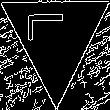L_E: (33, 21, 78, 53)
